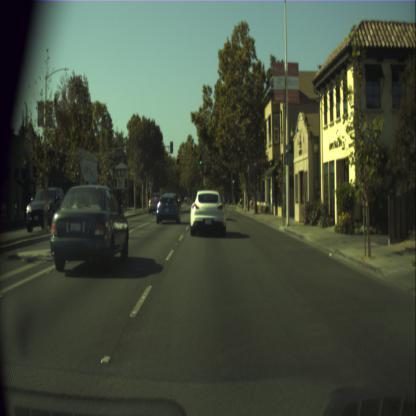Green: (232, 173, 235, 184), (200, 154, 202, 165)
Red: (176, 155, 180, 164), (232, 186, 234, 192)
